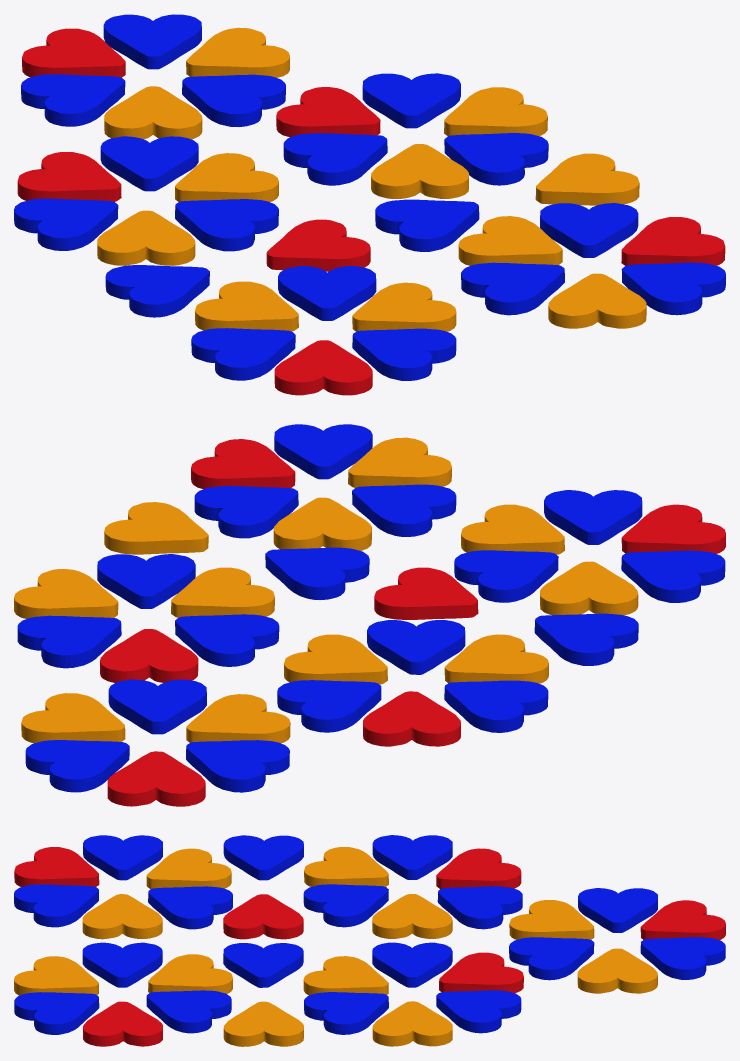
File: typeCombine002.fbx
The picture shows the model from 3 angles, top to bottom: view 1: azimuth 30°, elevation 25°; view 2: azimuth 150°, elevation 25°; view 3: azimuth 270°, elevation 25°; orthographic projection. The views are drawn at different scales.
Parts seen in each view (by area): view 1: typeCombine002; view 2: typeCombine002; view 3: typeCombine002.
Part boxes in pixels (<box>): typeCombine002: <box>14,14,725,395</box>; typeCombine002: <box>14,424,725,806</box>; typeCombine002: <box>14,835,725,1046</box>.
Bounding box in the file's own units: 1145 × 28.23 × 1712.
